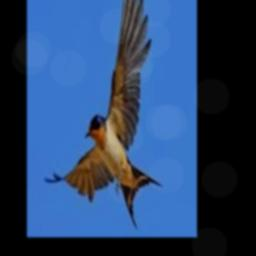Swallow: (45, 0, 164, 231)
